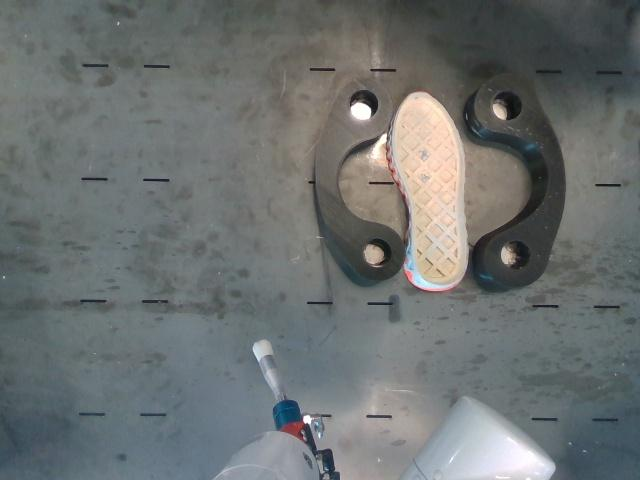shoes: (393, 92, 468, 286)
